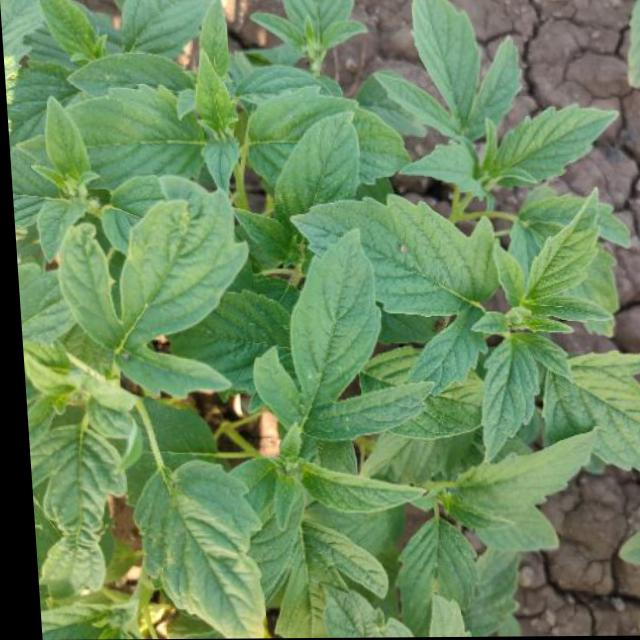crop: (15, 17, 640, 608)
